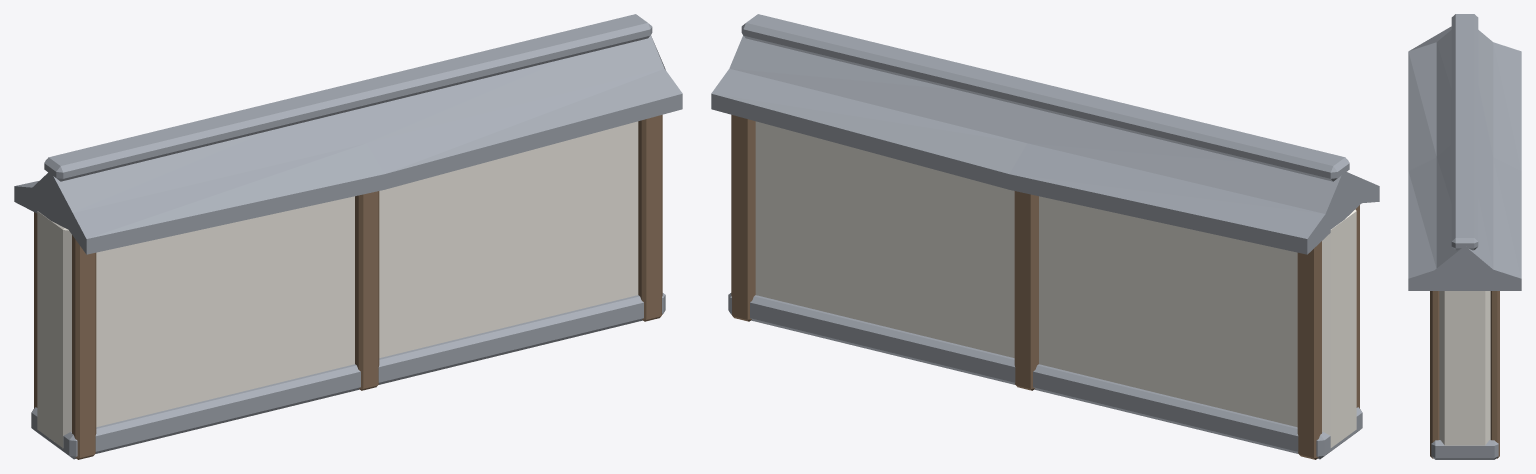
The model's file is feudal-japan-castle-town-wall-walk-straight-247f7b40__26573.glb.
3 renders of one model, left to right at view 1: azimuth 30°, elevation 25°; view 2: azimuth 150°, elevation 25°; view 3: azimuth 270°, elevation 25°, orthographic. The views are drawn at different scales.
Visible parts, largest first — view 1: wall-walk-straight; view 2: wall-walk-straight; view 3: wall-walk-straight.
Boxes of the visible parts, bbox=[...] form: wall-walk-straight: bbox=[14, 14, 682, 459]; wall-walk-straight: bbox=[711, 14, 1379, 459]; wall-walk-straight: bbox=[1408, 14, 1521, 459].
Bounding box in the file's own units: 4 × 1.82 × 0.8401.
